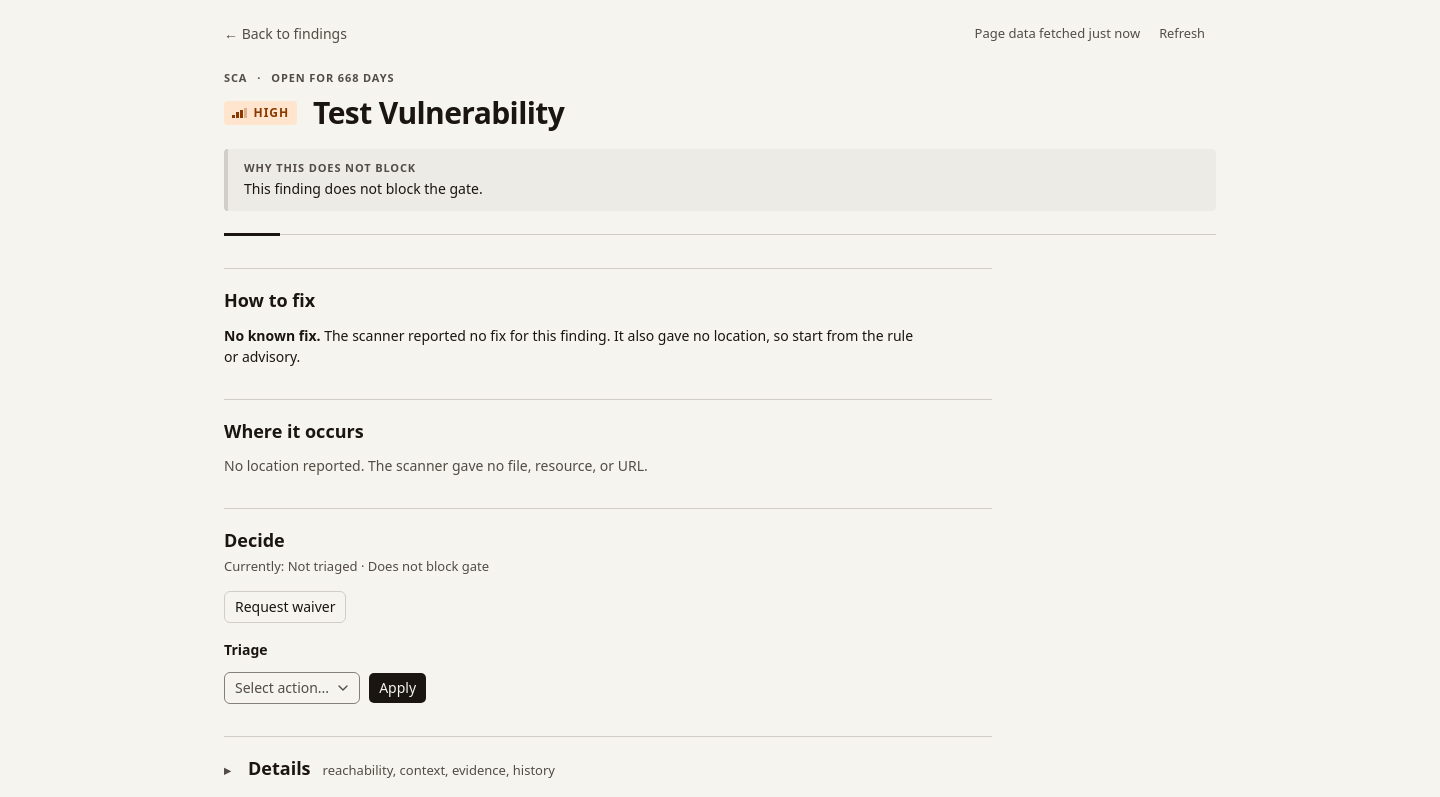
FindingDetail reachability rendering › renders a controlled label when a reachability state is unvalidated
Check: the heading "Test Vulnerability" is shown, box x1=313 y1=96 x2=564 y2=129
Click the button "▸ Details reachability, context, evidence, history": (279,768) x1=224 y1=753 x2=992 y2=785
(page scrolled)
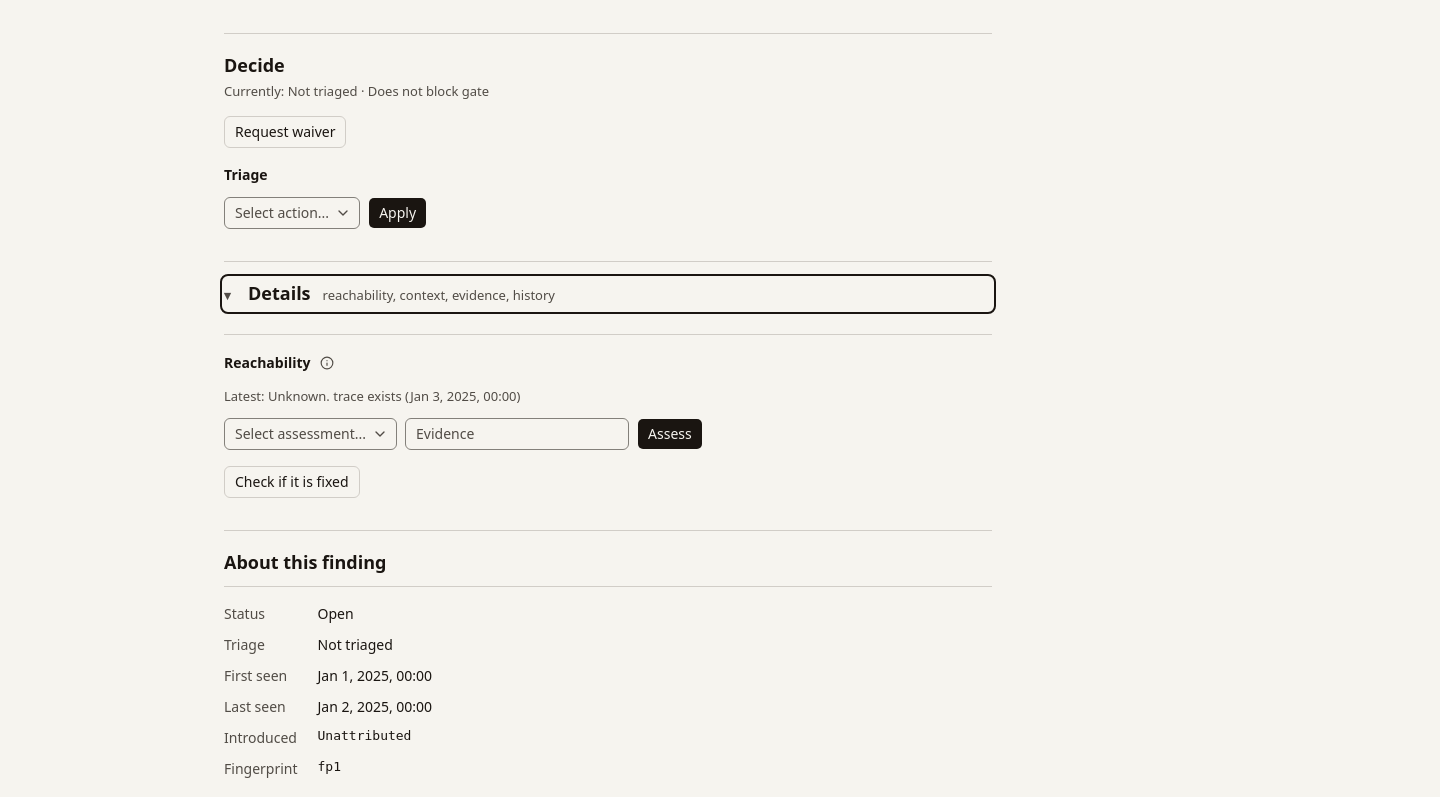
Check: the element showing "Latest: Unknown. trace exists (Jan 3, 2025, 00:00)" is shown, box x1=224 y1=387 x2=520 y2=405
